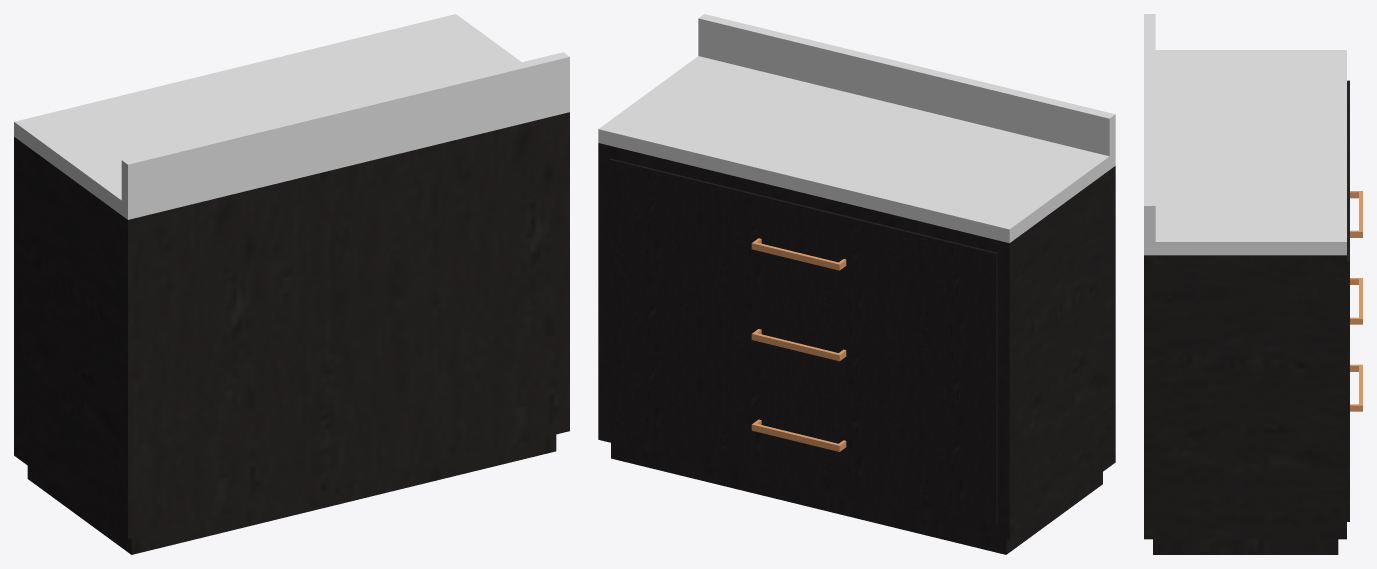
File: BathroomVanity05.fbx
The picture shows the model from 3 angles, left to right: view 1: azimuth 30°, elevation 25°; view 2: azimuth 150°, elevation 25°; view 3: azimuth 270°, elevation 25°; orthographic projection. The views are drawn at different scales.
Visible parts, largest first — view 1: BathroomVanity05; view 2: BathroomVanity05, BathroomVanity05Drawer01, BathroomVanity05Drawer02, BathroomVanity05Drawer03; view 3: BathroomVanity05, BathroomVanity05Drawer01, BathroomVanity05Drawer03, BathroomVanity05Drawer02.
Boxes of the visible parts, x1,y1,x2,y2 form: BathroomVanity05: (14,14,569,554); BathroomVanity05: (598,14,1115,554); BathroomVanity05Drawer01: (608,158,997,344); BathroomVanity05Drawer02: (608,250,997,434); BathroomVanity05Drawer03: (608,341,997,525); BathroomVanity05: (1144,14,1346,554); BathroomVanity05Drawer01: (1347,80,1362,348); BathroomVanity05Drawer03: (1347,364,1362,521); BathroomVanity05Drawer02: (1347,278,1362,435).
Bounding box in the file's own units: 104 × 88.98 × 50.02.
